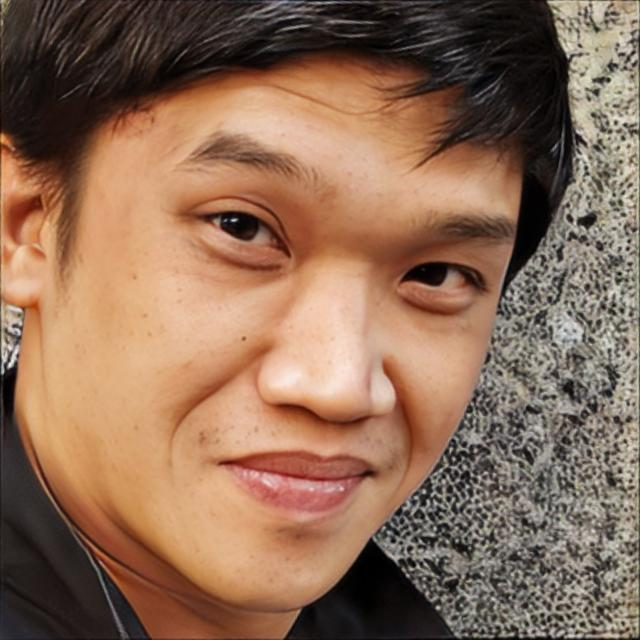content: (44, 32, 521, 610)
